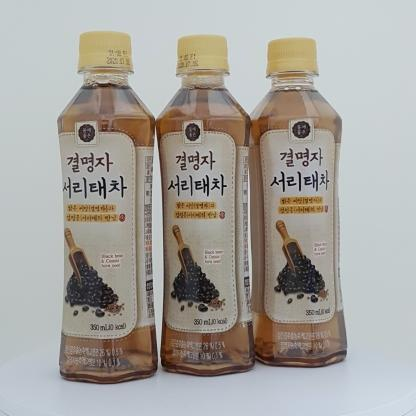----------350ML: (57, 30, 158, 384), (242, 37, 347, 367), (155, 34, 256, 376)
